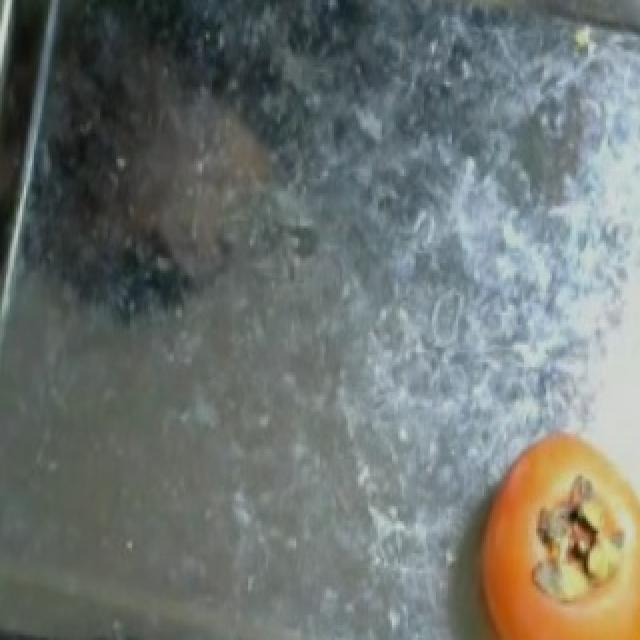Fruit: (446, 412, 636, 640)
